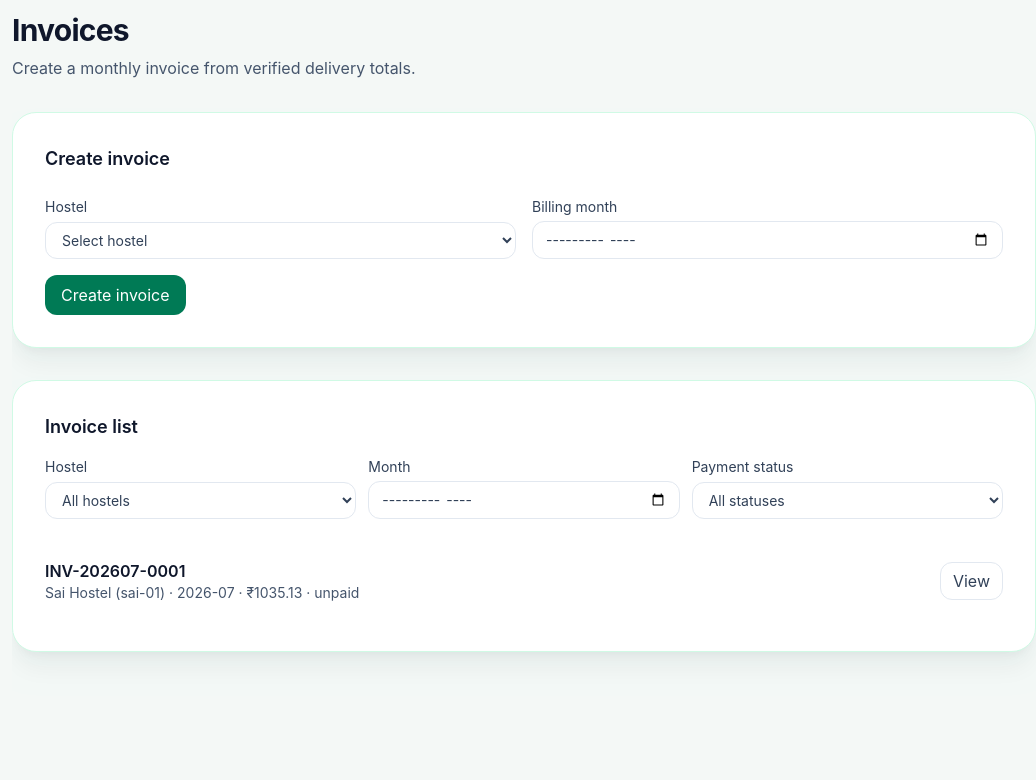
Test: InvoicesPage › shows the server conflict for a duplicate billing month
Select "Sai Hostel (sai-01)" in the dropdown labelled "Hostel" below "Billing month": (280, 240) [45,222,516,259]
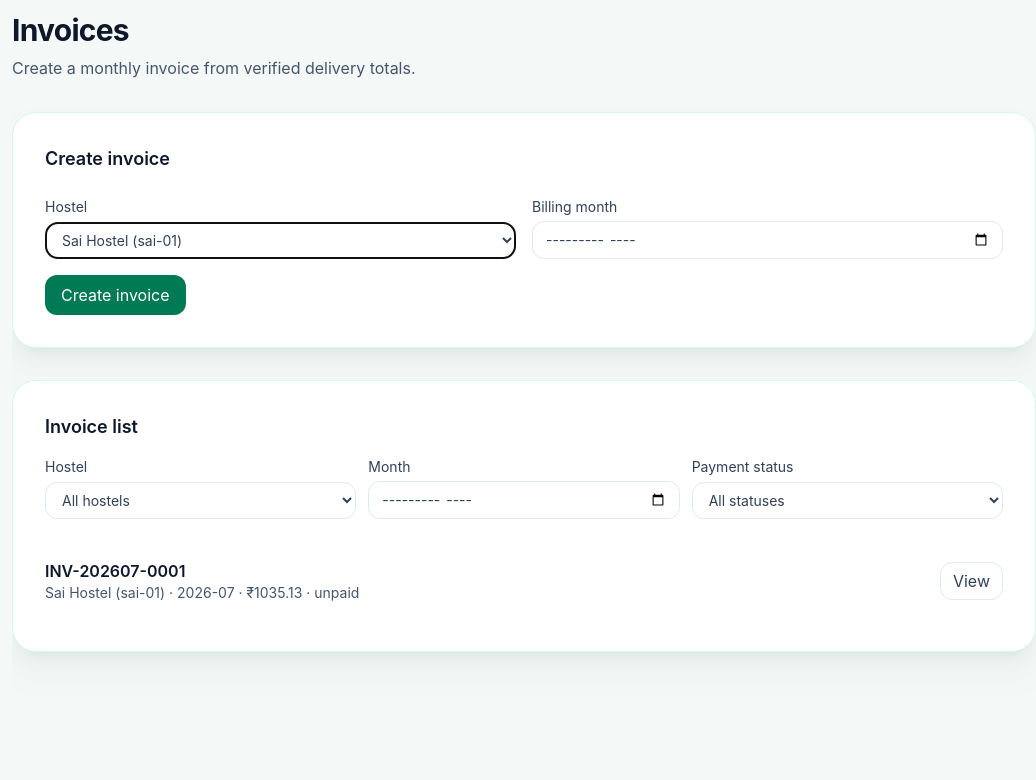
In the field labelled "Billing month": (768, 240) [532,221,1003,259], type "2026-07"
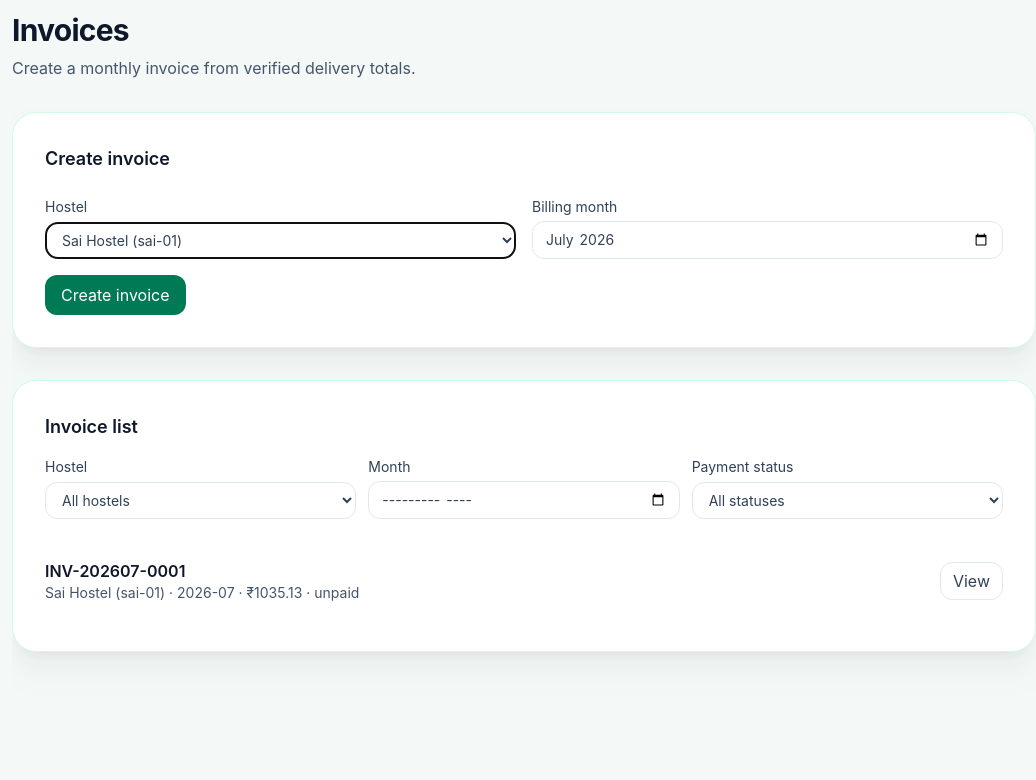
Click the button "Create invoice": (115, 295) [45,275,186,315]
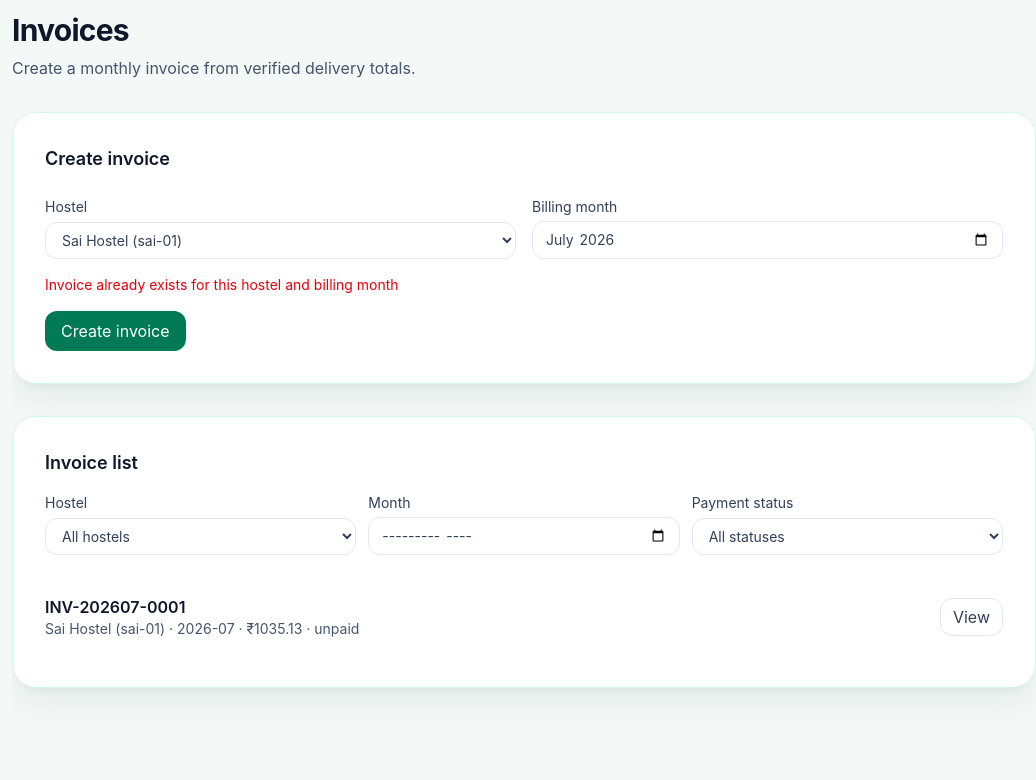
expect the text "Invoice already exists for this hostel and billing month" is shown: met, box [45,276,399,293]
